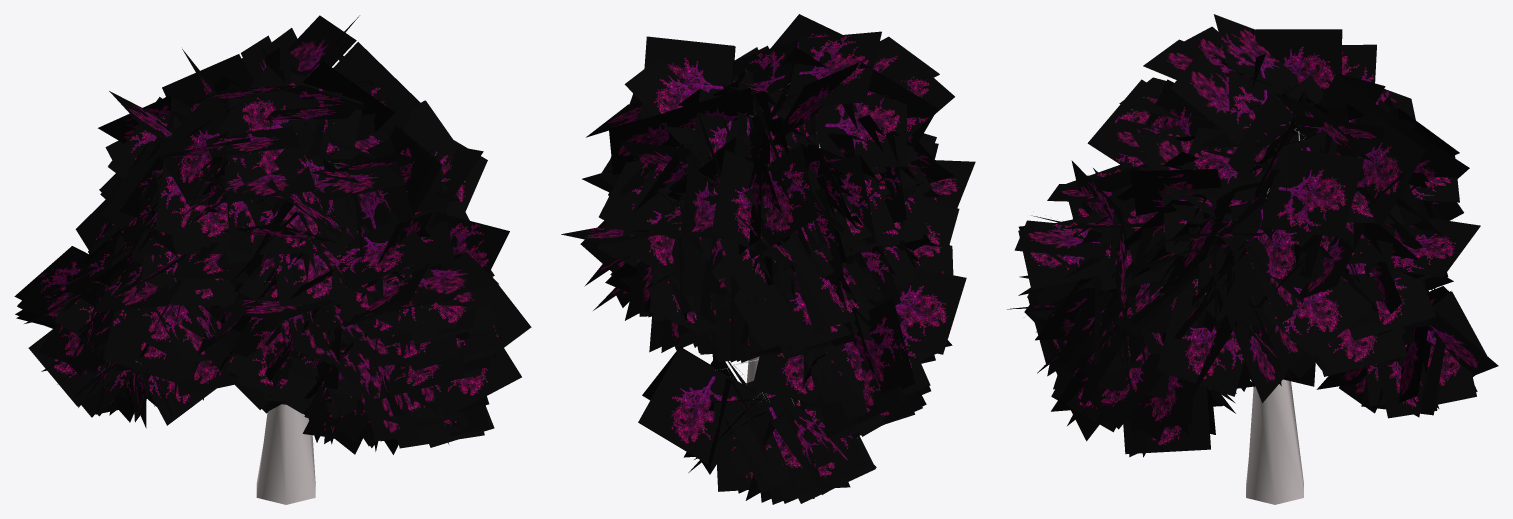
Rendered from arbre.glb.
3 views of the same model, side by side, from view 1: azimuth 30°, elevation 25°; view 2: azimuth 150°, elevation 25°; view 3: azimuth 270°, elevation 25° (orthographic).
Bounding box in the file's own units: 5.5 × 6.1 × 6.26.
Materials: 2 (1 with a texture image).
